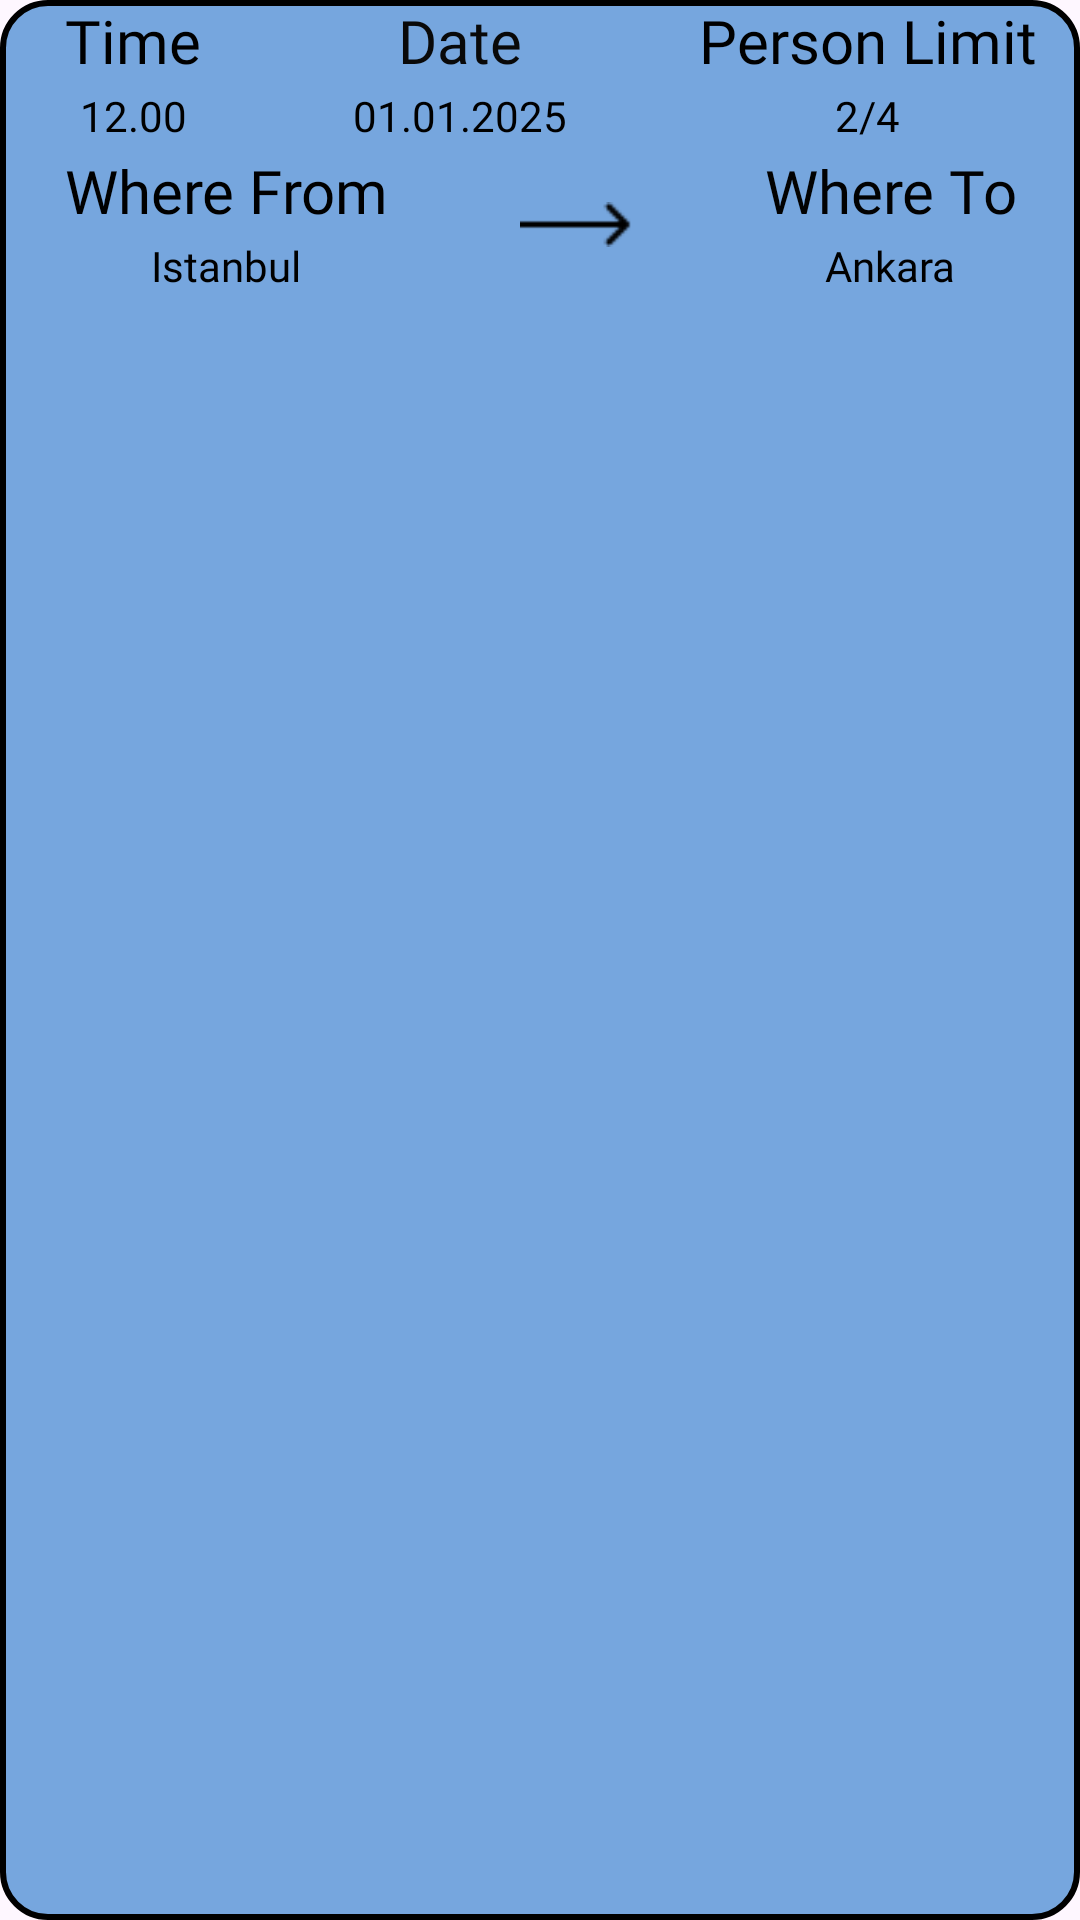

Icons on this 1080px x 1920px Android screen, each with the point to tap as (x=x, y=y):
arrow: (x=575, y=224)
